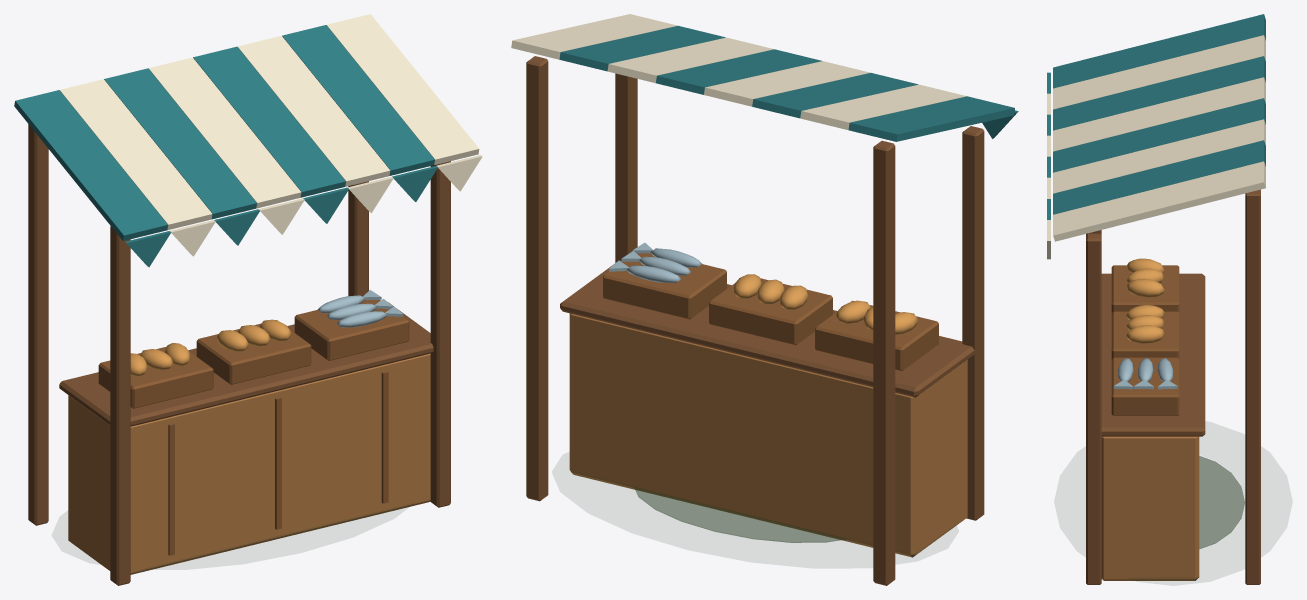
The model's file is stall_b.glb.
3 renders of one model, left to right at view 1: azimuth 30°, elevation 25°; view 2: azimuth 150°, elevation 25°; view 3: azimuth 270°, elevation 25°, orthographic. The views are drawn at different scales.
Visible parts, largest first — view 1: stall_b; view 2: stall_b; view 3: stall_b.
Boxes of the visible parts, x1=… form: stall_b: x1=14, y1=14, x2=482, y2=585; stall_b: x1=511, y1=14, x2=1018, y2=585; stall_b: x1=1047, y1=14, x2=1265, y2=584.
Size of the model in its own units: 2 by 2.27 by 1.24.
